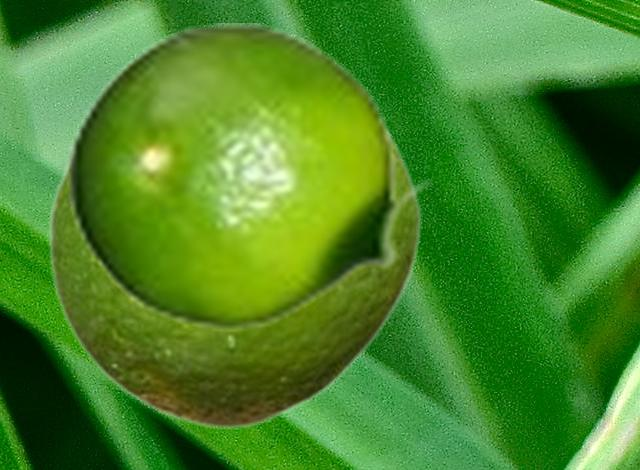calamansi: (47, 122, 421, 430), (65, 23, 435, 331)
